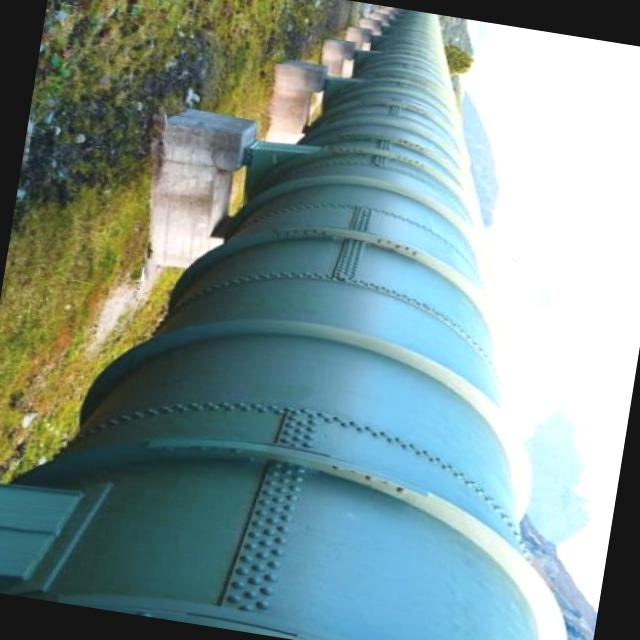gas: (21, 10, 564, 640)
